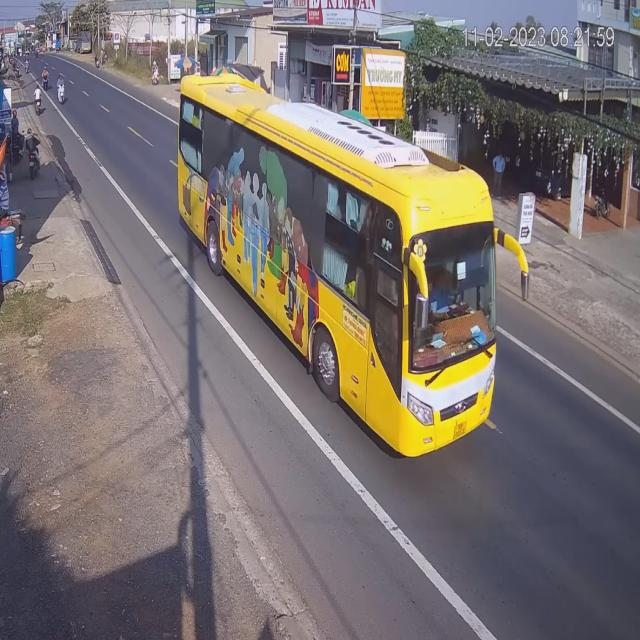bus: (175, 71, 501, 456)
